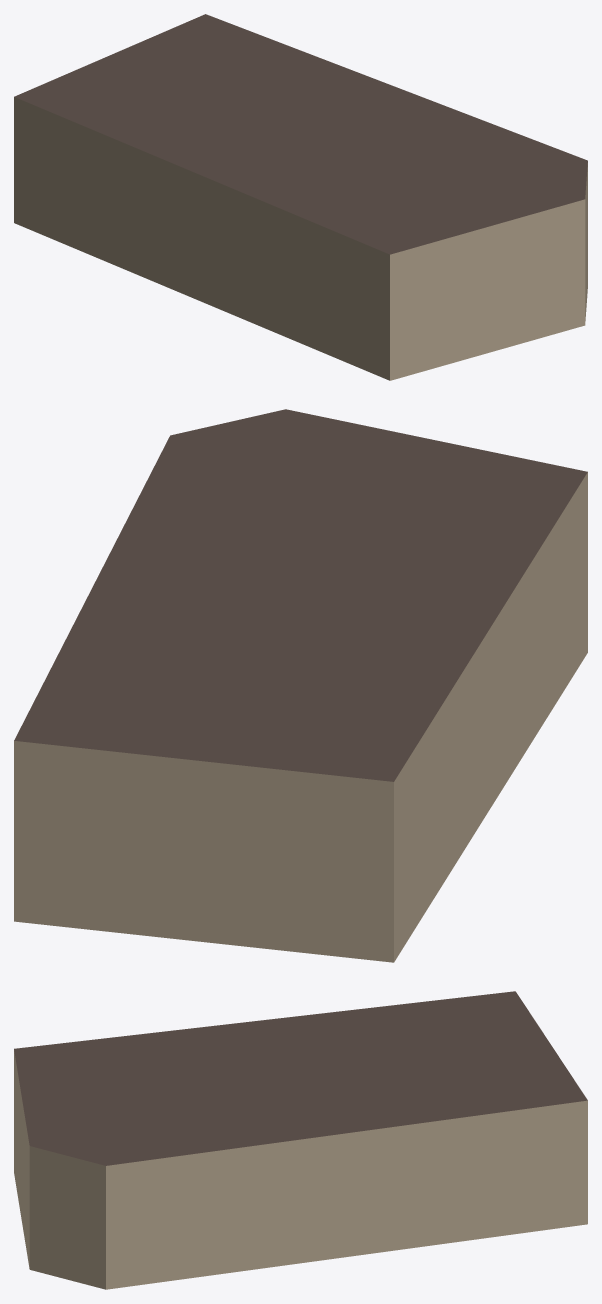
3 views of the same model, one above another, from view 1: azimuth 30°, elevation 25°; view 2: azimuth 150°, elevation 25°; view 3: azimuth 270°, elevation 25° (orthographic). The views are drawn at different scales.
Visible parts, largest first — view 1: HP-w446936782; view 2: HP-w446936782; view 3: HP-w446936782.
Boxes of the visible parts, <box> form: HP-w446936782: <box>14,14,587,380</box>; HP-w446936782: <box>14,409,587,962</box>; HP-w446936782: <box>14,991,587,1289</box>.
Bounding box in the file's own units: 27.24 × 9 × 37.82.
